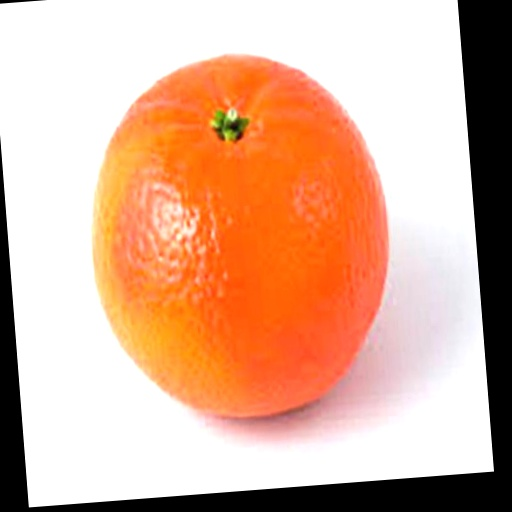fruit: (92, 55, 388, 415)
